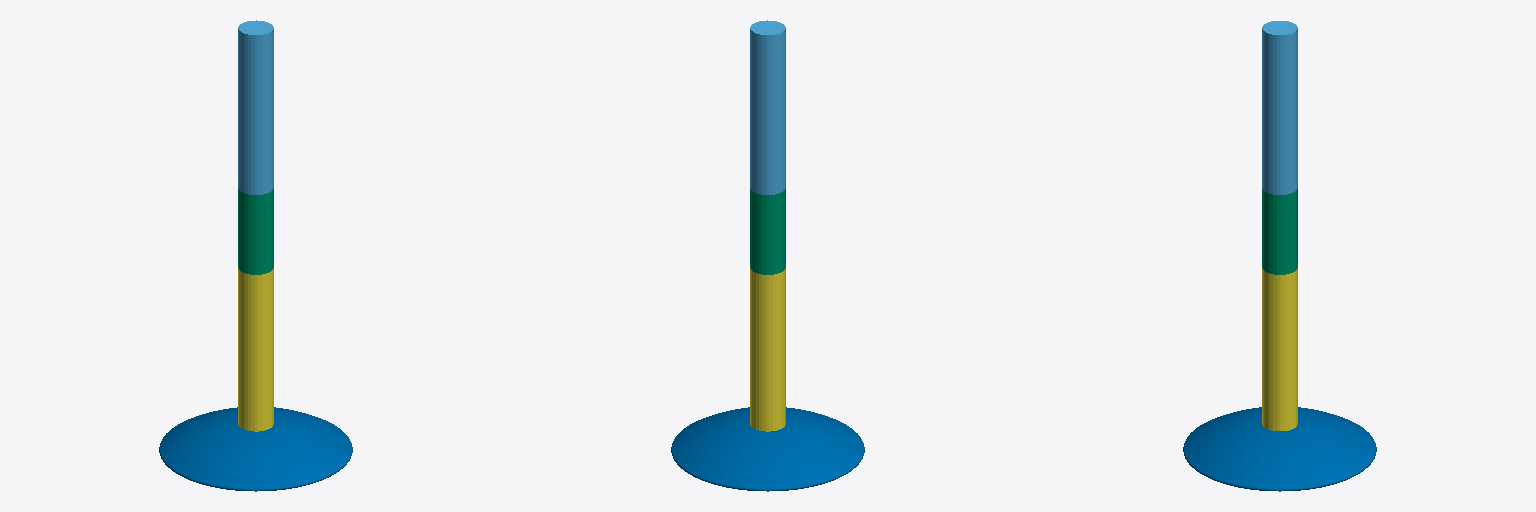
robot.urdf — LISM_Arm:
<?xml version="1.0" ?>
<robot name="LISM_Arm">
    <link name="world"/>

    <joint name="worldTolink1" type="fixed">
        <parent link="world"/>
        <child link="link1"/>
        <origin xyz="0.0 0.0 0.0"/>
    </joint>
    
    <link name="link1">
        <visual>
            <origin rpy="0.0 0.0 0.0" xyz="0 0 1.1"/>
            <geometry>
                <cylinder length="0.2" radius="0.02"/>
            </geometry>
        </visual>
    </link>

    <joint name="link1_link2" type="prismatic">
        <origin rpy="0 0 0" xyz="0.0 0 1.0"/>
        <parent link="link1"/>
        <child link="link2"/>
        <axis xyz="0 0 1"/>
    </joint>

    <link name="link2">
        <visual>
            <origin rpy="0.0 0.0 0.0" xyz="0.0 0 -0.05"/>
            <geometry>
                <cylinder length="0.1" radius="0.02"/>
            </geometry>
        </visual>
        <inertial>
            <mass value="0.01"/>
            <inertia ixx="0.000025" ixy="0" ixz="0" iyy="0.000025" iyz="0" izz="0.000025"/>
        </inertial>
    </link>

    <joint name="link2_link3" type="prismatic">
        <origin rpy="0 0 0" xyz="0.0 0 -0.1"/>
        <parent link="link2"/>
        <child link="link3"/>
        <axis xyz="0 0 1"/>
    </joint>

    <link name="link3">
        <inertial>
            <mass value="0.01"/>
            <inertia ixx="0.000025" ixy="0" ixz="0" iyy="0.000025" iyz="0" izz="0.000025"/>
        </inertial>
        <visual>
            <origin rpy="0.0 0.0 0.0" xyz="0.0 0 -0.1"/>
            <geometry>
                <cylinder length="0.2" radius="0.02"/>
            </geometry>
        </visual>
    </link>

    <joint name="link3_hand" type="revolute">
        <origin rpy="0 0 0" xyz="0.0 0 -0.2"/>
        <parent link="link3"/>
        <child link="hand"/>
        <axis xyz="0 1 0"/>
    </joint>

    <link name="hand">
        <visual>
            <origin rpy="0.0 -1.57 0.0" xyz="0 0 0"/>
            <geometry>
                <mesh filename="meshes/hand.dae" scale="0.001 0.001 0.001"/>
            </geometry>
        </visual>
        <inertial>
            <mass value="0.2"/>
            <origin rpy="0.0 0.0 0.0" xyz="0 0 0"/>
            <inertia ixx="0.00267" ixy="0" ixz="0.0" iyy="0.00267" iyz="0" izz="0.00267"/>
        </inertial>
        <collision>
            <origin rpy="0.0 -1.57 0.0" xyz="0 0.0 0"/>
            <geometry>
                <mesh filename="meshes/hand.obj" scale="0.001 0.001 0.001"/> 
            </geometry>
            <material name="">
                <contact name="steel"/>
            </material>
        </collision>
    </link> 
</robot>

--- What the picture shows (computed from the rendered views, not written in the file) ---
Views: 3 orthographic renders of the robot side by side, from view 1: azimuth 30°, elevation 25°; view 2: azimuth 150°, elevation 25°; view 3: azimuth 270°, elevation 25°.
Model LISM_Arm with 5 links and 4 joints (1 revolute, 2 prismatic, 1 fixed), rooted at world, posed all joints at 0.
Visible links, largest first — view 1: hand, link1, link3, link2; view 2: hand, link1, link3, link2; view 3: hand, link1, link3, link2.
Link boxes in pixels (bbox=[...]): hand: bbox=[159, 407, 352, 491]; link1: bbox=[238, 20, 273, 194]; link3: bbox=[238, 268, 273, 431]; link2: bbox=[238, 188, 273, 274]; hand: bbox=[671, 407, 864, 491]; link1: bbox=[750, 20, 785, 194]; link3: bbox=[750, 268, 785, 431]; link2: bbox=[750, 188, 785, 274]; hand: bbox=[1183, 407, 1376, 491]; link1: bbox=[1262, 21, 1297, 194]; link3: bbox=[1262, 268, 1297, 430]; link2: bbox=[1262, 188, 1297, 274].
Size in the robot's own frame: 0.2196 by 0.2196 by 0.5301 metres.
Meshes: 1 distinct files referenced, 1 mesh visuals loaded (1 Collada DAE).